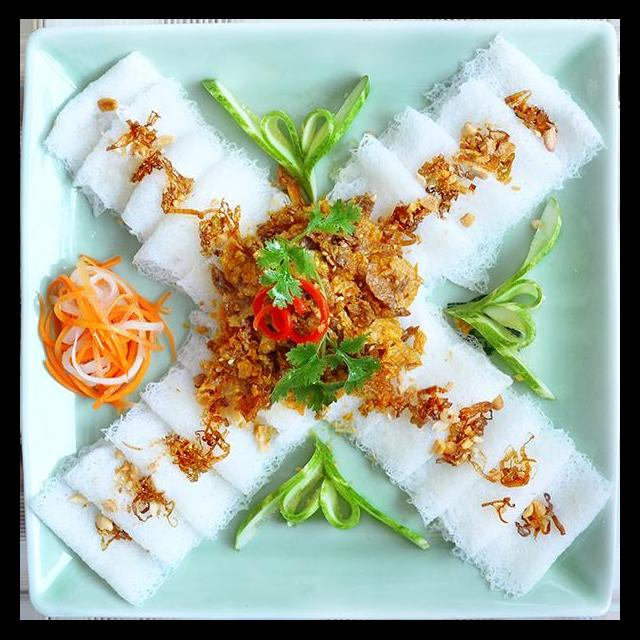banh hoi: (312, 290, 517, 484), (414, 28, 608, 202), (315, 125, 482, 304), (38, 41, 197, 222), (447, 446, 620, 602), (25, 447, 189, 610), (94, 390, 260, 546), (387, 382, 554, 530), (409, 74, 568, 224), (137, 354, 300, 500), (370, 106, 532, 250), (418, 422, 578, 564), (125, 144, 280, 288), (174, 306, 326, 452), (56, 432, 214, 570), (67, 72, 205, 226), (114, 120, 250, 248)
dua chua: (31, 252, 183, 422)
